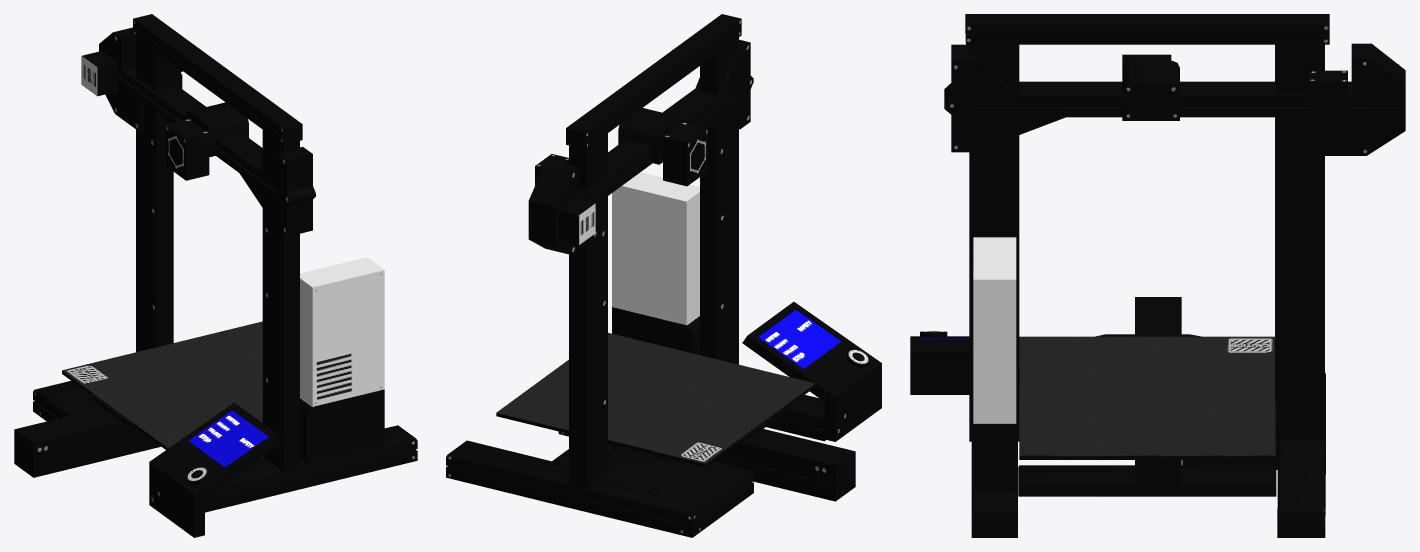
Rendered from Impresora3D.fbx.
3 views of the same model, side by side, from view 1: azimuth 30°, elevation 25°; view 2: azimuth 150°, elevation 25°; view 3: azimuth 270°, elevation 25° (orthographic). The views are drawn at different scales.
Parts seen in each view (by area): view 1: Estructura_1, Cama, ParteAnimada, BaseCama, ParteAguja; view 2: Estructura_1, Cama, ParteAnimada, BaseCama, ParteAguja; view 3: Estructura_1, Cama, ParteAnimada, ParteAguja, BaseCama.
Part boxes in pixels (<box>): Estructura_1: <box>33,14,417,537</box>; Cama: <box>62,321,262,449</box>; ParteAnimada: <box>81,27,315,236</box>; BaseCama: <box>14,408,160,477</box>; ParteAguja: <box>166,102,248,180</box>; Estructura_1: <box>446,14,881,537</box>; Cama: <box>496,333,815,467</box>; ParteAnimada: <box>528,39,753,255</box>; BaseCama: <box>558,429,855,501</box>; ParteAguja: <box>618,108,708,186</box>; Estructura_1: <box>910,14,1329,537</box>; Cama: <box>1019,334,1275,459</box>; ParteAnimada: <box>944,43,1405,155</box>; ParteAguja: <box>1122,54,1179,120</box>; BaseCama: <box>1135,297,1181,496</box>.
Size of the model in its own units: 322 by 360 by 362.
